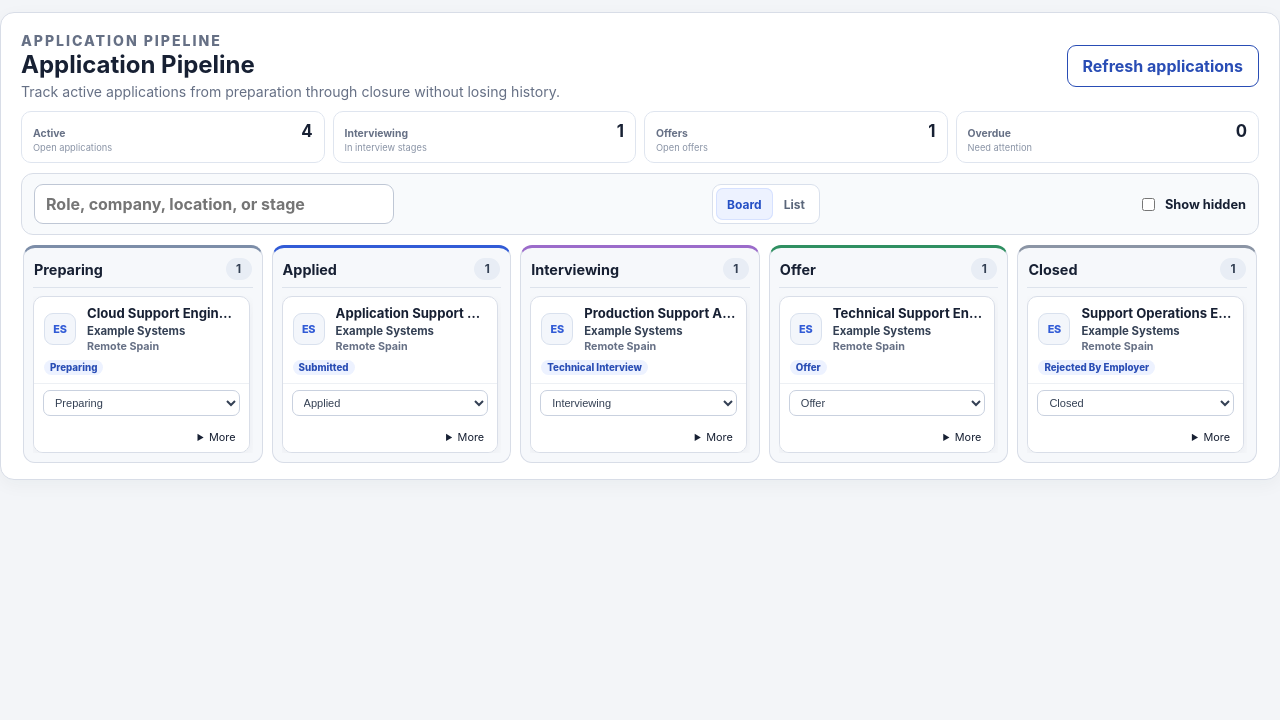
it: ApplicationDashboard › closes an applied card through an explicit final outcome
This screenshot has width=1280, height=720.
Select "Closed" in the dropdown named "Move Application Support Engineer to stage". click: (390, 403)
box: [292,390,488,416]
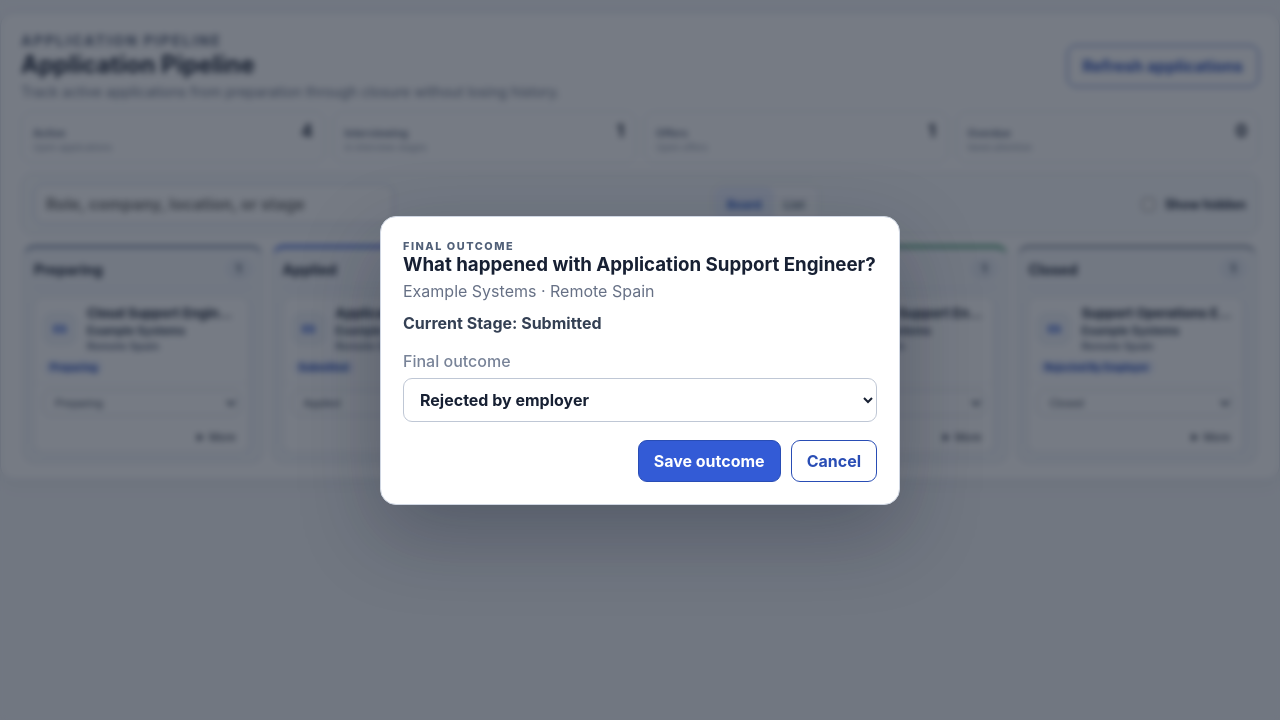
Click the button "Save outcome". click: (709, 460)
box: [638,440,781,482]
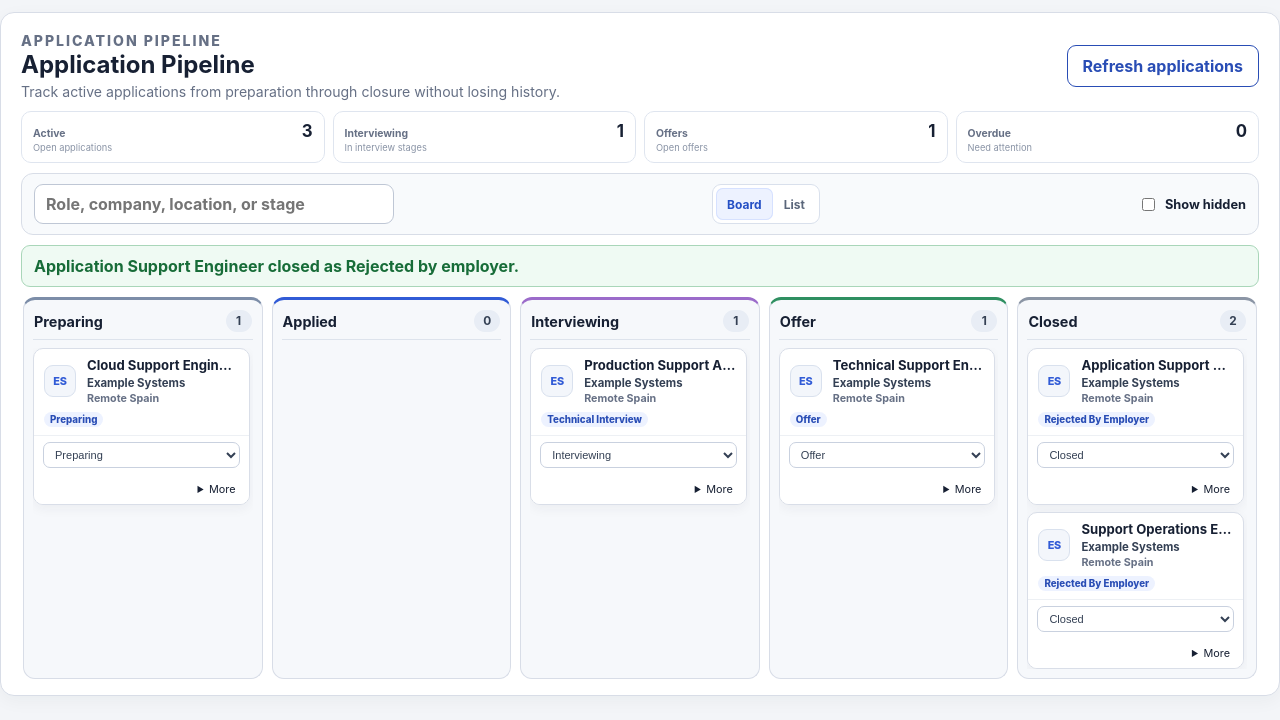
Expected: the text "Application Support Engineer closed as Rejected by employer." is shown, [21,245,1259,287]
Expected: the text named "Closed count" reads "2", [1229,314,1237,328]
